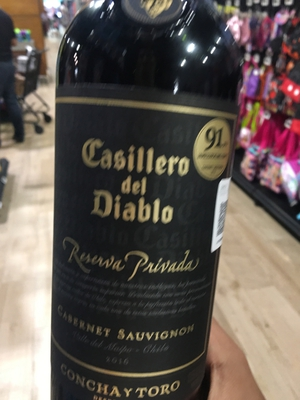casillero del diablo reserva privada cabernet sauvignon: (41, 10, 248, 400)
